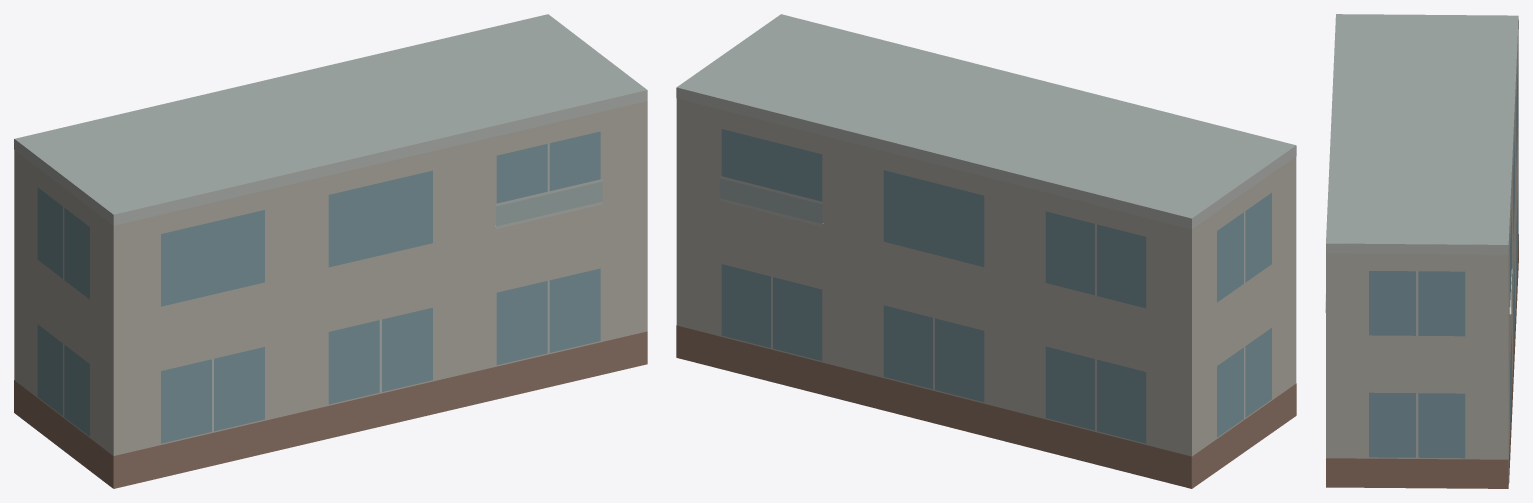
File: survey-upis-32835450.glb
The picture shows the model from 3 angles, left to right: view 1: azimuth 30°, elevation 25°; view 2: azimuth 150°, elevation 25°; view 3: azimuth 270°, elevation 25°; orthographic projection. The views are drawn at different scales.
Parts seen in each view (by area): view 1: survey-upis-32835450.tmp; view 2: survey-upis-32835450.tmp; view 3: survey-upis-32835450.tmp.
Boxes of the visible parts, bbox=[...] form: survey-upis-32835450.tmp: bbox=[14, 14, 647, 488]; survey-upis-32835450.tmp: bbox=[676, 14, 1296, 488]; survey-upis-32835450.tmp: bbox=[1325, 14, 1518, 488].
Size of the model in its own units: 12.4 by 6.1 by 4.4.
